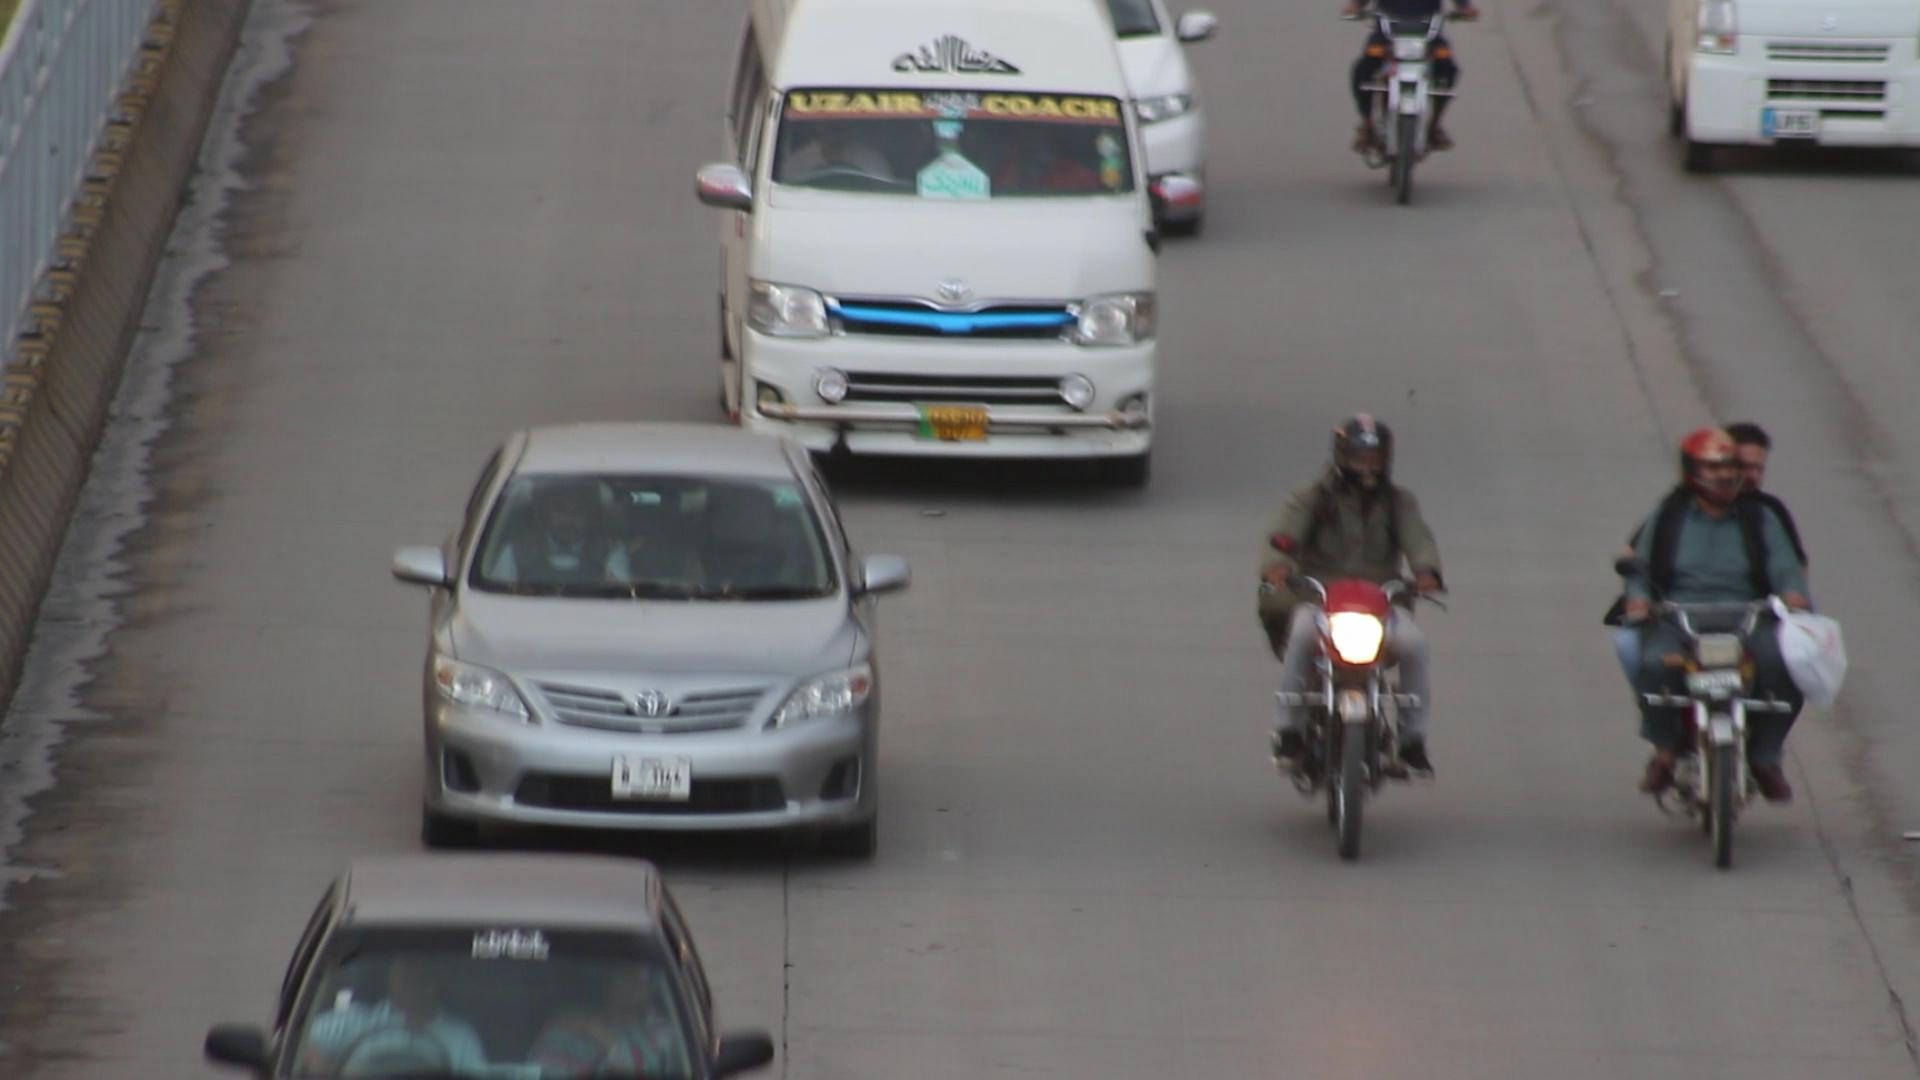windshield: (757, 67, 1150, 207), (454, 463, 844, 600)
